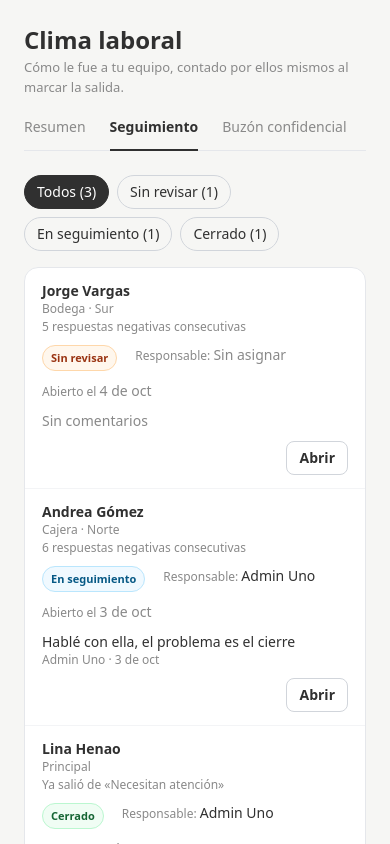
seguimiento: la pestaña › «Abrir» lleva al mismo panel de la persona
Click the button with aria-label "Abrir el caso de Andrea Gómez": (317, 695) [286,678,348,712]
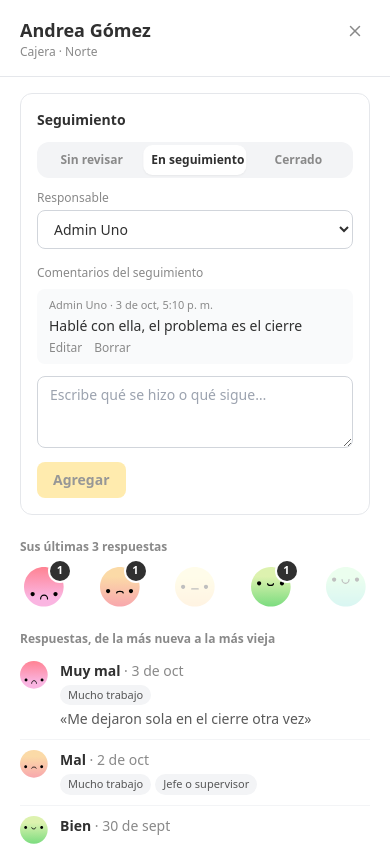
Result: the dialog "Andrea Gómez" is shown
